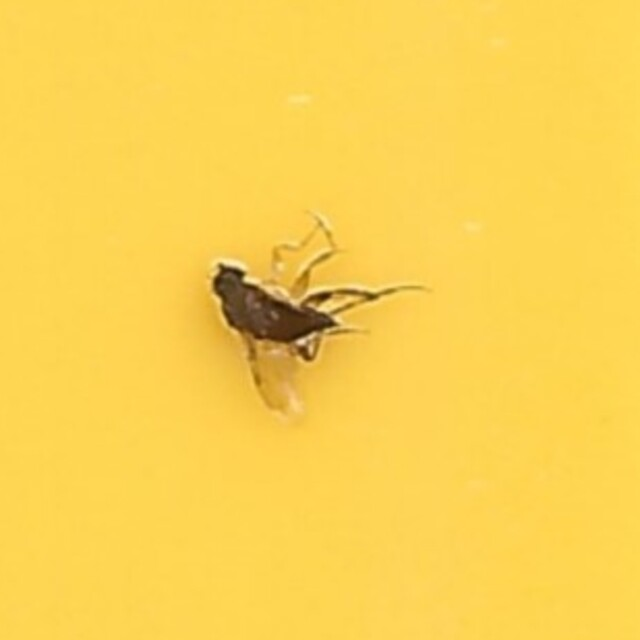Brachycera: (207, 212, 433, 428)
